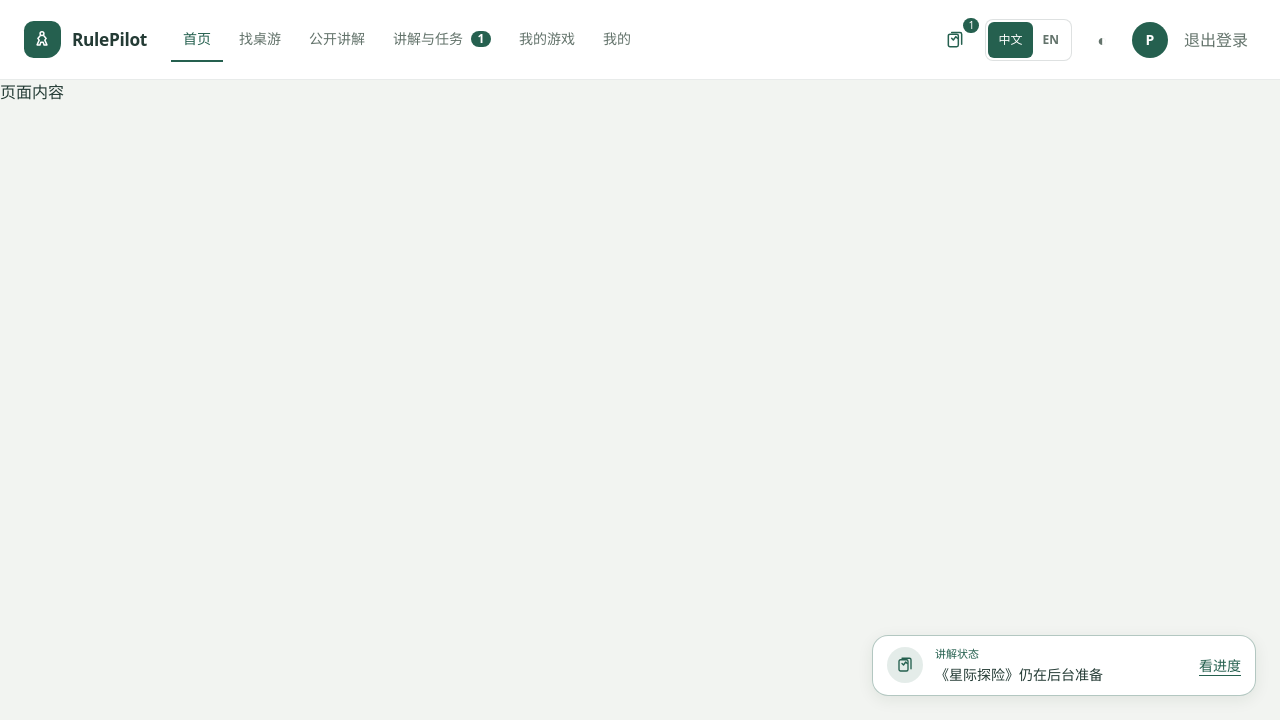
Test: AppShell › tracks a local upload from the persisted server handoff without duplicating its document task
Step 1. Click the button with test id "background-work-trigger-desktop" → coordinates (956, 40), box [934,18,978,62]
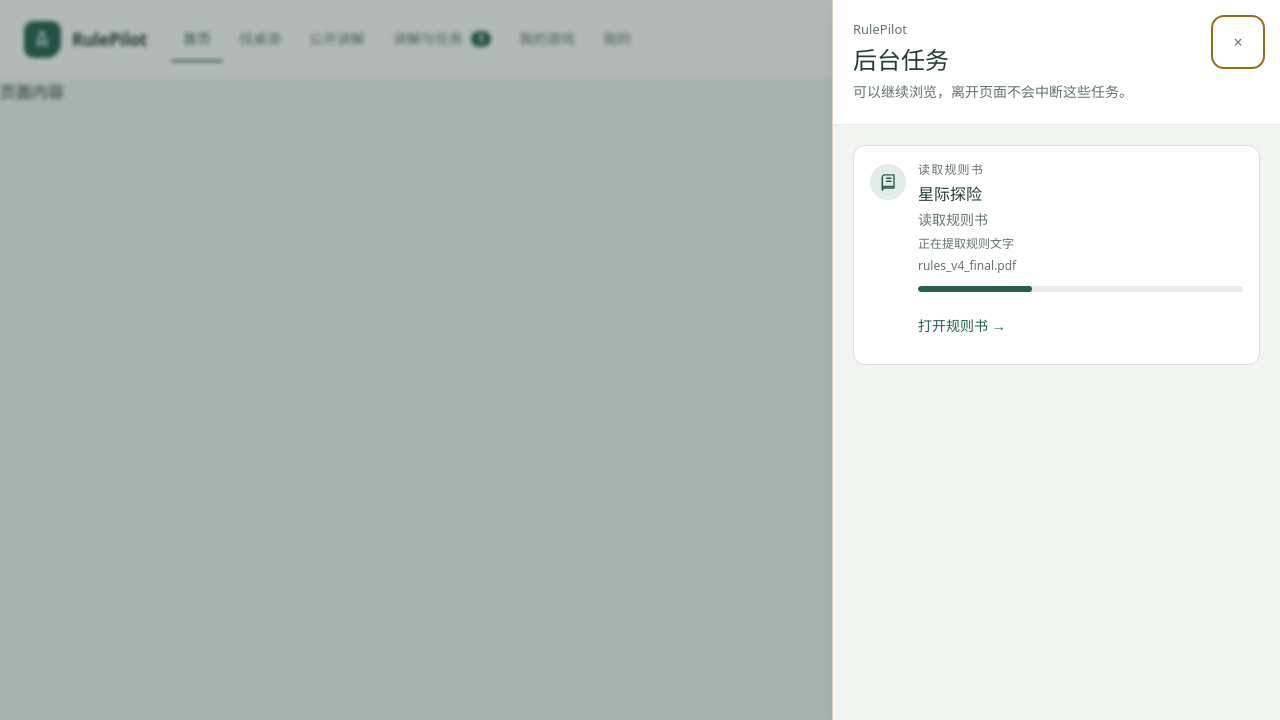
Result: the text "rules_v4_final.pdf" is shown at [918,256,1016,274]
Result: the text "正在提取规则文字" is shown at [918,234,1014,252]
Result: the number of list items is 1 at [853,144,1260,364]
